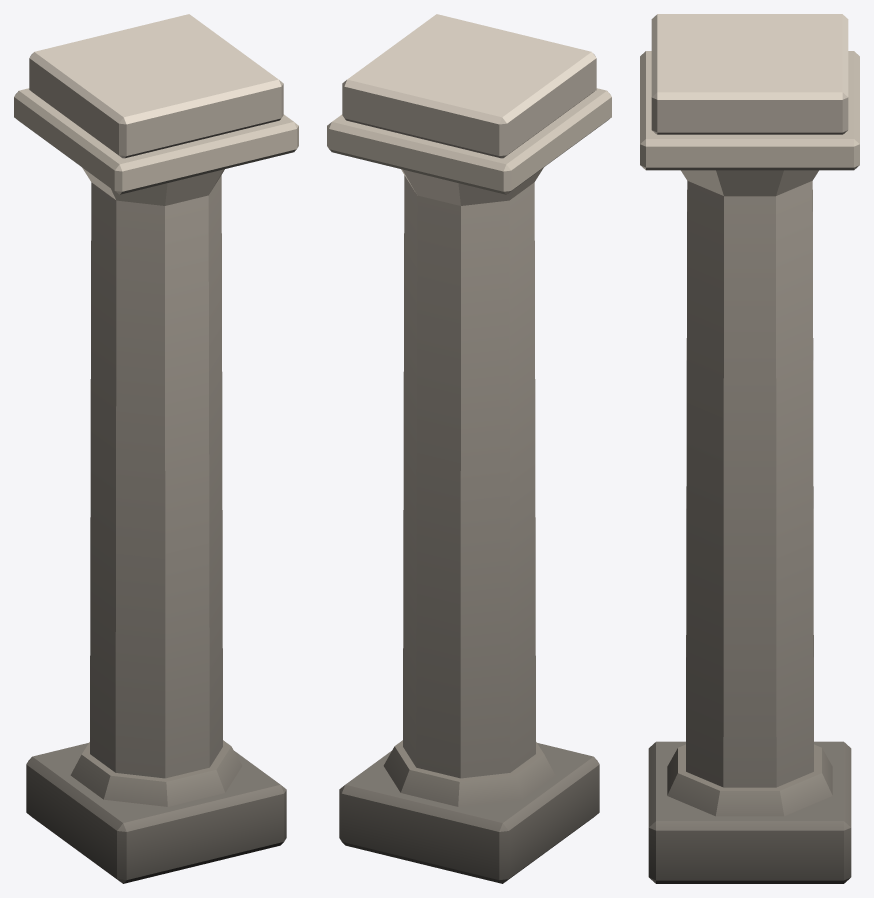
Rendered from SM_VKI_Prop_Pillar_Full.fbx.
3 renders of one model, left to right at view 1: azimuth 30°, elevation 25°; view 2: azimuth 150°, elevation 25°; view 3: azimuth 270°, elevation 25°, orthographic. The views are drawn at different scales.
Visible parts, largest first — view 1: SM_VKI_Prop_Pillar_Full.001; view 2: SM_VKI_Prop_Pillar_Full.001; view 3: SM_VKI_Prop_Pillar_Full.001.
Part boxes in pixels (<box>): SM_VKI_Prop_Pillar_Full.001: <box>14,14,298,883</box>; SM_VKI_Prop_Pillar_Full.001: <box>327,14,611,883</box>; SM_VKI_Prop_Pillar_Full.001: <box>640,14,859,883</box>.
Size of the model in its own units: 0.76 by 3.02 by 0.76.
